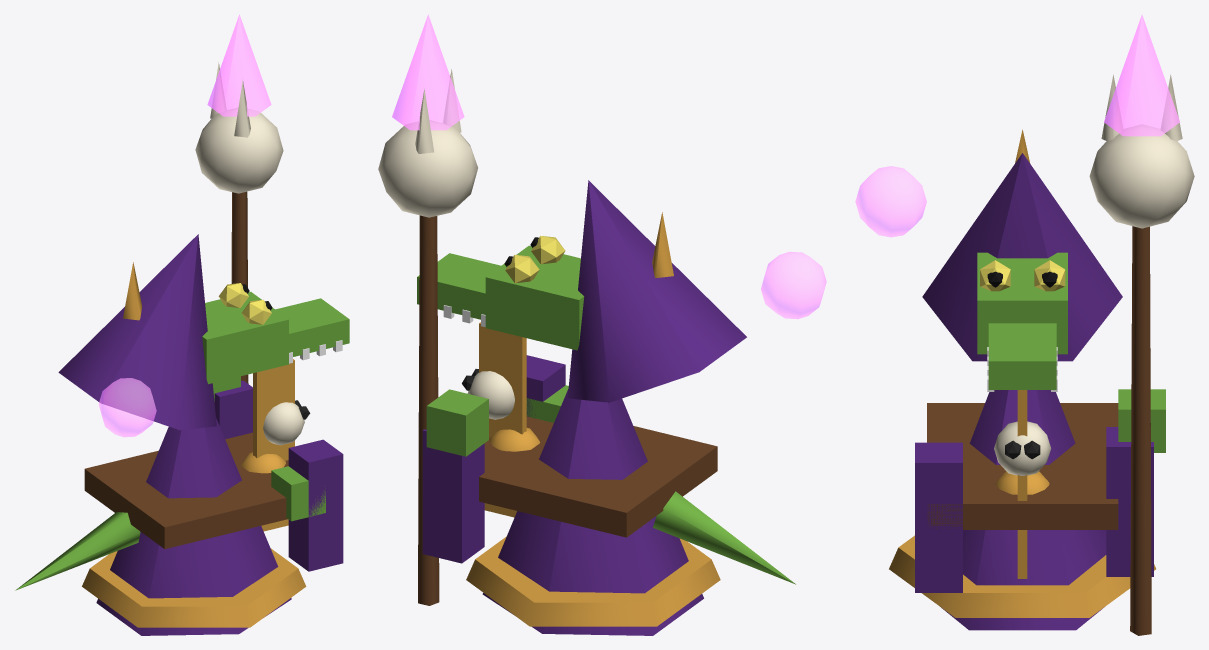
File: level1.glb
The picture shows the model from 3 angles, left to right: view 1: azimuth 30°, elevation 25°; view 2: azimuth 150°, elevation 25°; view 3: azimuth 270°, elevation 25°; orthographic projection. The views are drawn at different scales.
Parts seen in each view (by area): view 1: object 23, object 1, arm, object 4, object 2, object 27, object 9, object 10, object 3, object 29, object 28, object 26 (+5 smaller); view 2: arm, object 23, object 1, object 4, object 2, object 9, object 3, object 29, object 28, object 10, object 27, object 6 (+5 smaller); view 3: arm, object 23, object 4, object 1, object 2, object 27, object 9, object 10, object 28, object 6, object 3, object 5 (+2 smaller).
Part boxes in pixels (<box>): object 23: <box>58,234,216,430</box>; object 1: <box>96,418,291,635</box>; arm: <box>195,14,283,439</box>; object 4: <box>84,432,288,548</box>; object 2: <box>82,548,306,627</box>; object 27: <box>288,439,343,571</box>; object 9: <box>202,292,288,384</box>; object 10: <box>275,298,349,356</box>; object 3: <box>253,359,294,531</box>; object 29: <box>15,512,140,590</box>; object 28: <box>98,378,156,437</box>; object 26: <box>271,466,325,521</box>; arm: <box>378,14,488,605</box>; object 23: <box>567,180,746,402</box>; object 1: <box>482,388,703,635</box>; object 4: <box>479,416,717,537</box>; object 2: <box>466,536,720,626</box>; object 9: <box>485,245,584,350</box>; object 3: <box>479,322,526,517</box>; object 29: <box>653,491,795,584</box>; object 28: <box>761,252,826,319</box>; object 10: <box>417,253,500,319</box>; object 27: <box>526,355,565,416</box>; object 6: <box>467,371,514,419</box>; arm: <box>1089,14,1194,635</box>; object 23: <box>922,153,1122,361</box>; object 4: <box>927,403,1118,529</box>; object 1: <box>941,390,1106,630</box>; object 2: <box>889,535,1155,617</box>; object 27: <box>915,442,962,592</box>; object 9: <box>977,252,1067,354</box>; object 10: <box>988,323,1056,389</box>; object 28: <box>855,166,926,237</box>; object 6: <box>994,421,1051,475</box>; object 3: <box>1017,390,1027,578</box>; object 5: <box>995,471,1049,494</box>.
Size of the model in its own units: 1.85 by 2.9 by 1.42.
